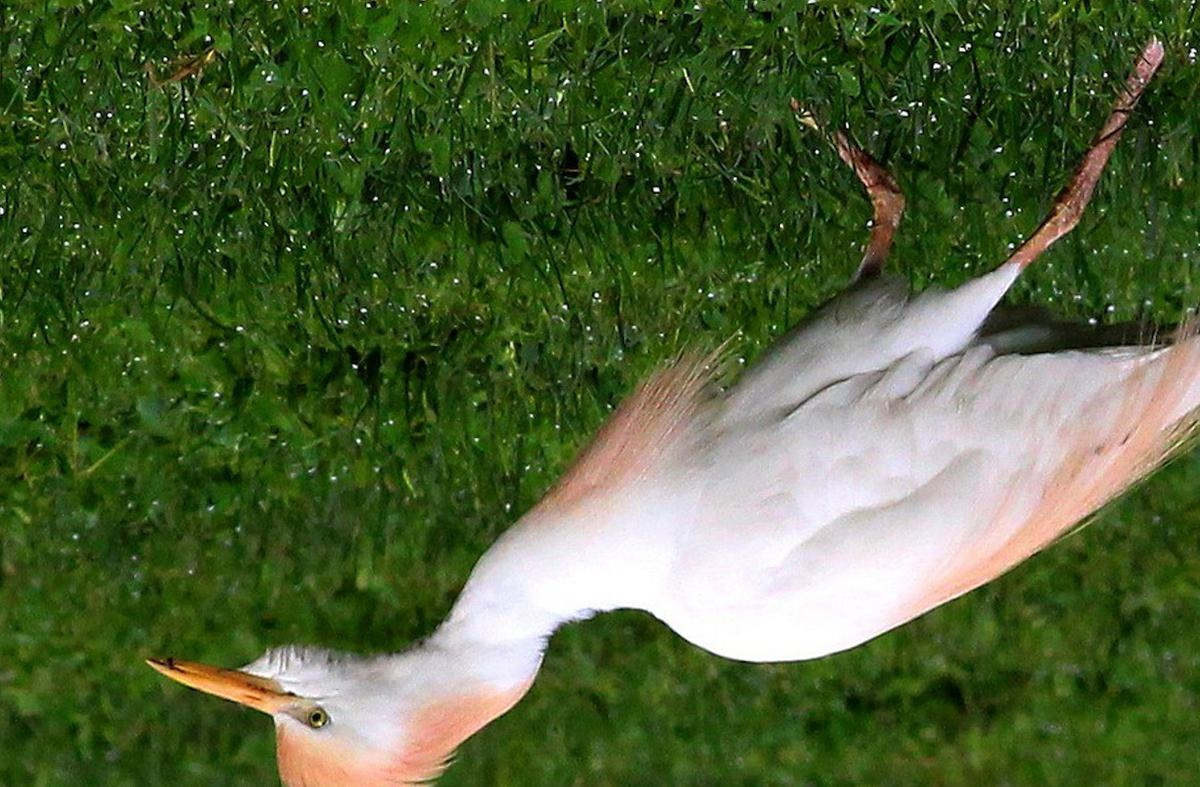egret: (135, 39, 1200, 786)
